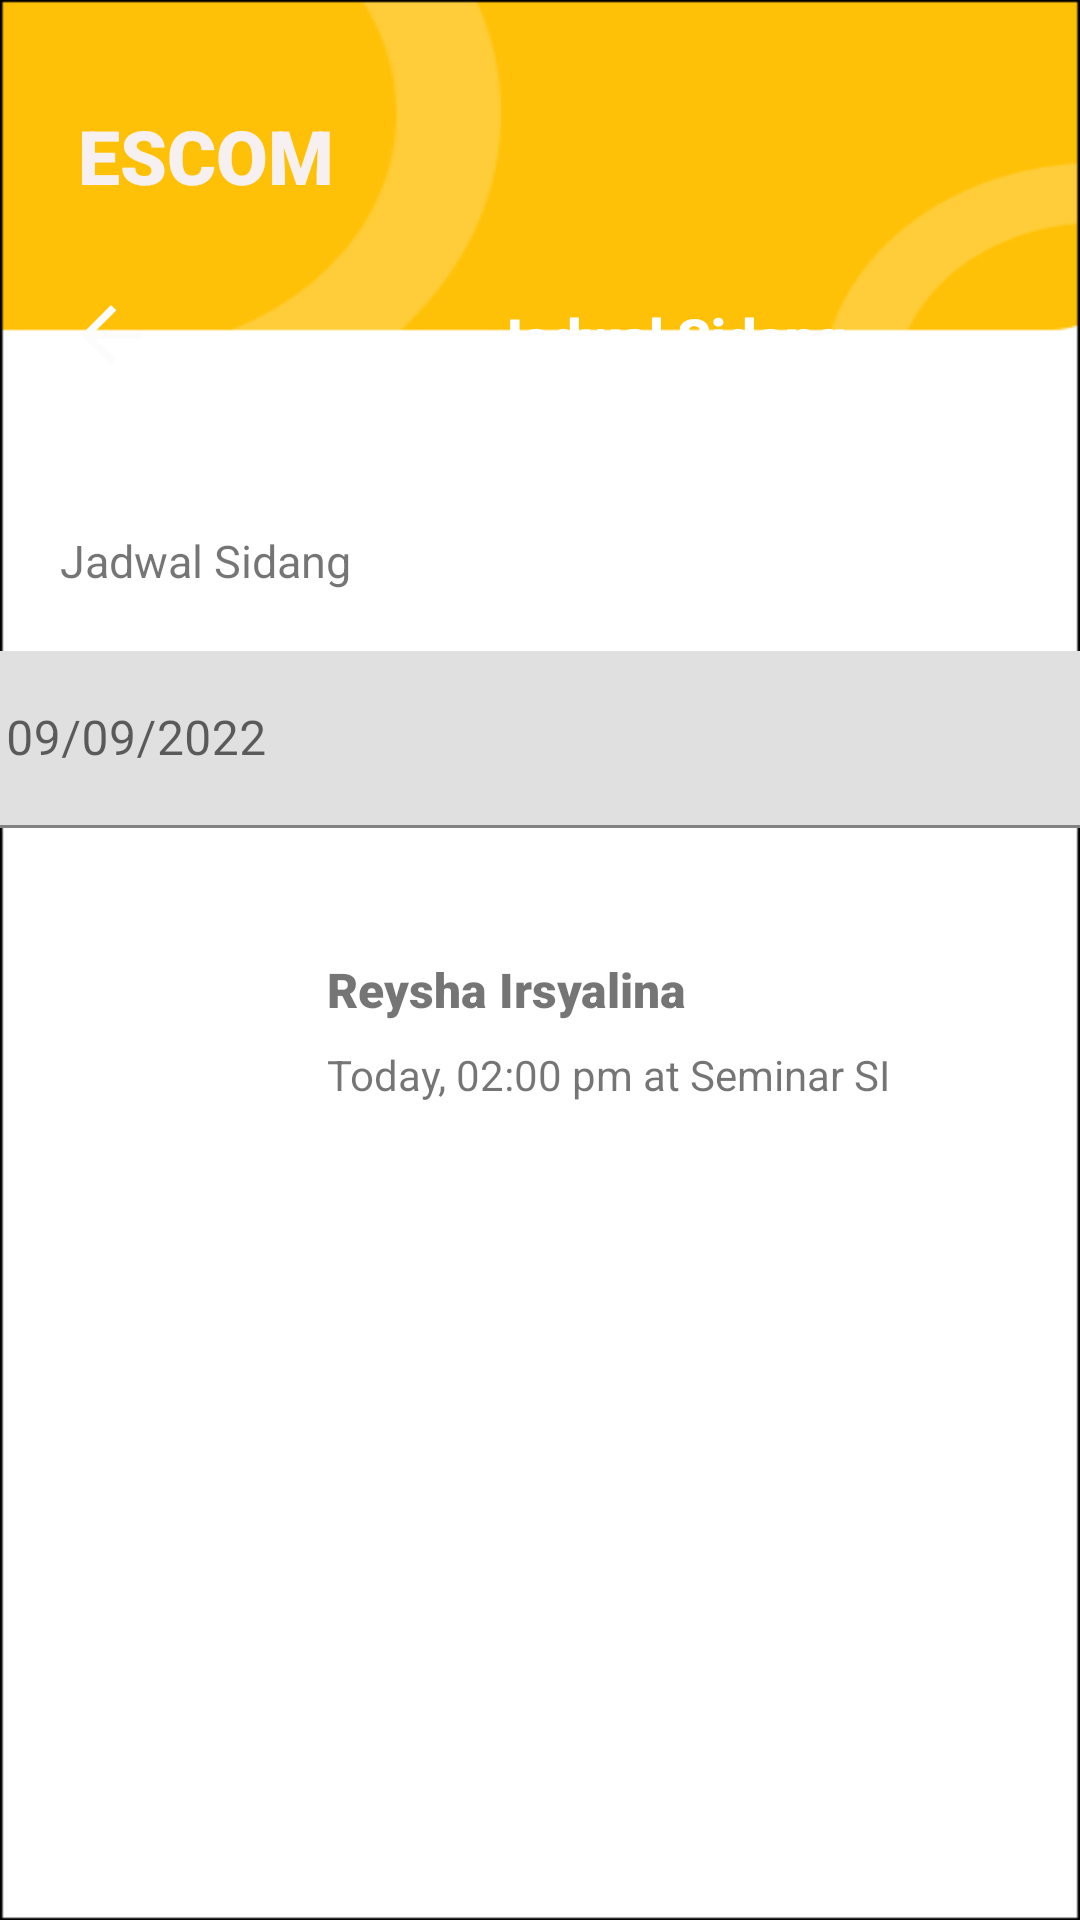

Icon click points for this 1080 x 1920 phone screenshot, format (x,y):
arrow left: (111,335)
